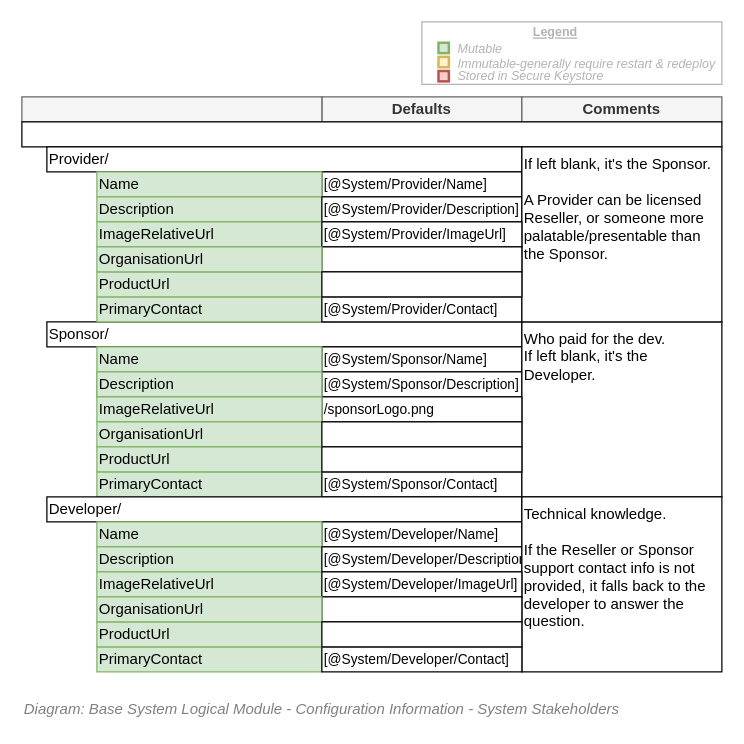
The diagram is 744 pixels wide and 744 high, and some of its shapes have lost their labels. The shapes that lost their labels are listed below. From the top down, each one's centre as x and y in pixels, then its label:
At point 171,109: "Key Path".
At point 371,134: "Stakeholders/".
